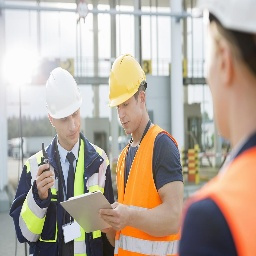helmet: (199, 2, 256, 54), (43, 69, 89, 126), (106, 57, 149, 113)
person: (18, 66, 117, 256), (101, 52, 188, 256), (195, 1, 256, 256)
vest: (111, 130, 190, 256), (23, 159, 112, 252), (201, 144, 256, 256)
